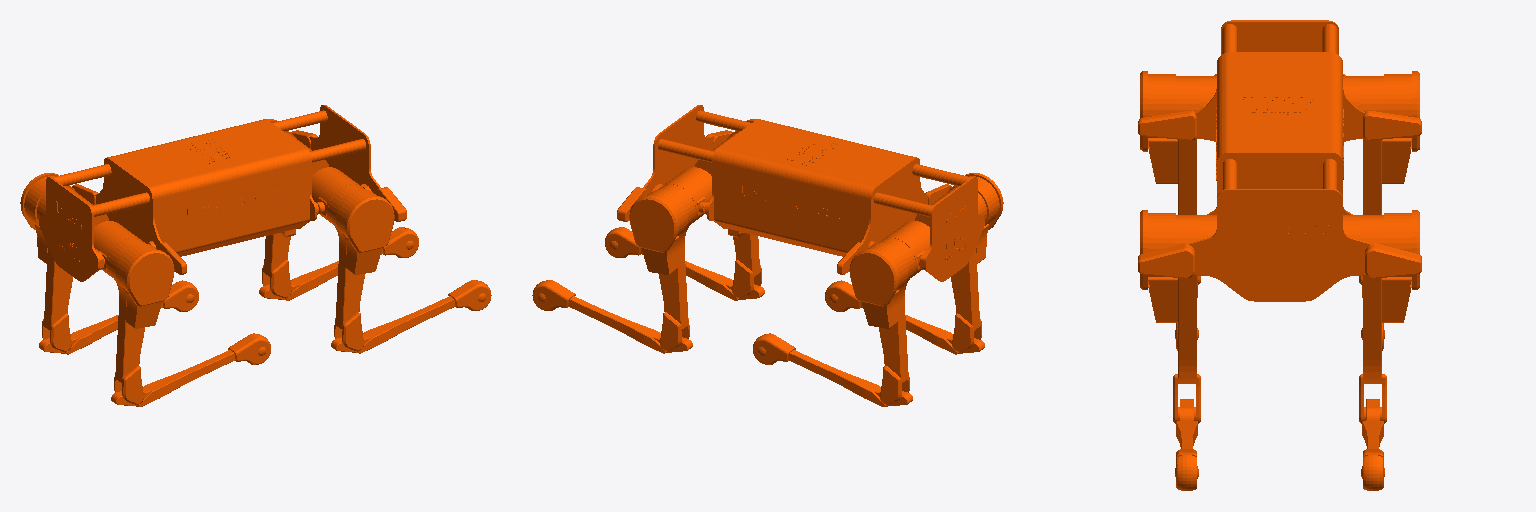
robot.urdf — laikago:
<?xml version="1.0" ?>
<!-- =================================================================================== -->
<!-- |    This document was autogenerated by xacro from robot.xacro                    | -->
<!-- |    EDITING THIS FILE BY HAND IS NOT RECOMMENDED                                 | -->
<!-- =================================================================================== -->
<robot name="laikago" xmlns:xacro="http://www.ros.org/wiki/xacro">
  <material name="black">
    <color rgba="0.0 0.0 0.0 1.0"/>
  </material>
  <material name="blue">
    <color rgba="0.0 0.0 0.8 1.0"/>
  </material>
  <material name="green">
    <color rgba="0.0 0.8 0.0 1.0"/>
  </material>
  <material name="grey">
    <color rgba="0.2 0.2 0.2 1.0"/>
  </material>
  <material name="silver">
    <color rgba="0.913725490196 0.913725490196 0.847058823529 1.0"/>
  </material>
  <material name="orange">
    <color rgba="1.0 0.423529411765 0.0392156862745 1.0"/>
  </material>
  <material name="brown">
    <color rgba="0.870588235294 0.811764705882 0.764705882353 1.0"/>
  </material>
  <material name="red">
    <color rgba="0.8 0.0 0.0 1.0"/>
  </material>
  <material name="white">
    <color rgba="1.0 1.0 1.0 1.0"/>
  </material>
  <!-- Base footpoint Link -->
   
  <!-- Base Link -->
  <link name="trunk">
    <visual>
      <origin rpy="0 0 0" xyz="0 0 0"/>
      <geometry>
        <mesh filename="meshes/trunk3.obj" scale="1 1 1"/>
      </geometry>
      <material name="orange"/>
    </visual>
    <collision>
      <origin rpy="0 0 0" xyz="0 0 0.01675"/>
      <geometry>
        <box size="0.5616 0.172 0.1875"/>
      </geometry>
    </collision>
    <inertial>
      <origin rpy="0 0 0" xyz="0.002284 -4.1e-05 0.025165"/>
      <mass value="13.733"/>
      <inertia ixx="0.073348887" ixy="0.00030338" ixz="0.001918218" iyy="0.250684593" iyz="-7.5402e-05" izz="0.254469458"/>
    </inertial>
  </link>
 
  <joint name="FL_hip_joint" type="revolute">
    <origin rpy="0 0 0" xyz="0.21935 0.0875 0"/>
    <parent link="trunk"/>
    <child link="FL_hip"/>
    <axis xyz="1 0 0"/>
    <dynamics damping="0" friction="0"/>
    <limit effort="20" lower="-0.872664625997" upper="1.0471975512" velocity="52.4"/>
  </joint>
  <link name="FL_hip">
    <visual>
      <origin rpy="0 0 0" xyz="0 0 0"/>
      <geometry>
        <mesh filename="meshes/hip.obj" scale="1 1 1"/>
      </geometry>
      <material name="orange"/>
    </visual>
    <collision>
      <origin rpy="1.57079632679 0 0" xyz="0 -0.021 0"/>
      <geometry>
        <cylinder length="0.08" radius="0.041"/>
      </geometry>
    </collision>
    <inertial>
      <origin rpy="0 0 0" xyz="-0.001568 -0.008134 0.000864"/>
      <mass value="1.096"/>
      <inertia ixx="0.000822113" ixy="-4.982e-06" ixz="-3.672e-05" iyy="0.000983196" iyz="2.811e-06" izz="0.000864753"/>
    </inertial>
  </link>
   
  <joint name="FL_thigh_joint" type="revolute">
    <origin rpy="0 0 0" xyz="0 0.037 0"/>
    <parent link="FL_hip"/>
    <child link="FL_thigh"/>
    <axis xyz="0 1 0"/>
    <dynamics damping="0" friction="0"/>
    <limit effort="55" lower="-0.523598775598" upper="3.92699081699" velocity="28.6"/>
  </joint>
  <link name="FL_thigh">
    <visual>
      <origin rpy="0 0 0" xyz="0 0 0"/>
      <geometry>
        <mesh filename="meshes/thigh.obj" scale="1 1 1"/>
      </geometry>
      <material name="orange"/>
    </visual>
    <collision>
      <origin rpy="0 1.57079632679 0" xyz="0 0 -0.125"/>
      <geometry>
        <box size="0.25 0.034 0.043"/>
      </geometry>
    </collision>
    <inertial>
      <origin rpy="0 0 0" xyz="-0.000482 0.02001 -0.031996"/>
      <mass value="1.528"/>
      <inertia ixx="0.00991611" ixy="1.0388e-05" ixz="0.000250428" iyy="0.009280083" iyz="-8.511e-05" izz="0.00178256"/>
    </inertial>
  </link>
  <joint name="FL_calf_joint" type="revolute">
    <origin rpy="0 0 0" xyz="0 0 -0.25"/>
    <parent link="FL_thigh"/>
    <child link="FL_calf"/>
    <axis xyz="0 1 0"/>
    <dynamics damping="0" friction="0"/>
    <limit effort="55" lower="-2.77507351067" upper="-0.610865238198" velocity="28.6"/>
  </joint>
  <link name="FL_calf">
    <visual>
      <origin rpy="0 0 0" xyz="0 0 0"/>
      <geometry>
        <mesh filename="meshes/calf6.obj" scale="1 1 1"/>
      </geometry>
      <material name="orange"/>
    </visual>
    <collision>
      <origin rpy="0 1.57079632679 0" xyz="0 0 -0.125"/>
      <geometry>
        <box size="0.25 0.016 0.016"/>
      </geometry>
    </collision>
    <inertial>
      <origin rpy="0 0 0" xyz="-0.002196 -0.000381 -0.12338"/>
      <mass value="0.241"/>
      <inertia ixx="0.006181961" ixy="2.37e-07" ixz="-2.985e-06" iyy="0.006196546" iyz="5.138e-06" izz="3.4774e-05"/>
    </inertial>
  </link>
  <joint name="FL_foot_fixed" type="fixed">
    <origin rpy="0 0 0" xyz="0 0 -0.25"/>
    <parent link="FL_calf"/>
    <child link="FL_foot"/>
    <axis xyz="0 0 1"/>
    <limit effort="100.0" lower="-0.001" upper="0.001" velocity="0.05"/>
  </joint>
  <link name="FL_foot">
    <visual>
      <origin rpy="0 0 0" xyz="0 0 0"/>
      <geometry>
        <sphere radius="0.0165"/>
      </geometry>
      <material name="orange"/>
    </visual>
    <collision name="FL_foot_collision">
      <origin rpy="0 0 0" xyz="0 0 0"/>
      <geometry>
        <sphere radius="0.0265"/>
      </geometry>
    </collision>
    <inertial>
      <mass value="0.06"/>
      <inertia ixx="1.6854e-05" ixy="0.0" ixz="0.0" iyy="1.6854e-05" iyz="0.0" izz="1.6854e-05"/>
    </inertial>
  </link>
  <transmission name="FL_hip_tran">
    <type>transmission_interface/SimpleTransmission</type>
    <joint name="FL_hip_joint">
      <hardwareInterface>hardware_interface/EffortJointInterface</hardwareInterface>
    </joint>
    <actuator name="FL_hip_motor">
      <hardwareInterface>hardware_interface/EffortJointInterface</hardwareInterface>
      <mechanicalReduction>1</mechanicalReduction>
    </actuator>
  </transmission>
  <transmission name="FL_thigh_tran">
    <type>transmission_interface/SimpleTransmission</type>
    <joint name="FL_thigh_joint">
      <hardwareInterface>hardware_interface/EffortJointInterface</hardwareInterface>
    </joint>
    <actuator name="FL_thigh_motor">
      <hardwareInterface>hardware_interface/EffortJointInterface</hardwareInterface>
      <mechanicalReduction>1</mechanicalReduction>
    </actuator>
  </transmission>
  <transmission name="FL_calf_tran">
    <type>transmission_interface/SimpleTransmission</type>
    <joint name="FL_calf_joint">
      <hardwareInterface>hardware_interface/EffortJointInterface</hardwareInterface>
    </joint>
    <actuator name="FL_calf_motor">
      <hardwareInterface>hardware_interface/EffortJointInterface</hardwareInterface>
      <mechanicalReduction>1</mechanicalReduction>
    </actuator>
  </transmission>
  <joint name="FR_hip_joint" type="revolute">
    <origin rpy="0 0 0" xyz="0.21935 -0.0875 0"/>
    <parent link="trunk"/>
    <child link="FR_hip"/>
    <axis xyz="1 0 0"/>
    <dynamics damping="0" friction="0"/>
    <limit effort="20" lower="-1.0471975512" upper="0.872664625997" velocity="52.4"/>
  </joint>
  <link name="FR_hip">
    <visual>
      <origin rpy="3.14159265359 0 0" xyz="0 0 0"/>
      <geometry>
        <mesh filename="meshes/hip.obj" scale="1 1 1"/>
      </geometry>
      <material name="orange"/>
    </visual>
    <collision>
      <origin rpy="1.57079632679 0 0" xyz="0 0.021 0"/>
      <geometry>
        <cylinder length="0.08" radius="0.041"/>
      </geometry>
    </collision>
    <inertial>
      <origin rpy="0 0 0" xyz="-0.001568 0.008134 0.000864"/>
      <mass value="1.096"/>
      <inertia ixx="0.000822113" ixy="4.982e-06" ixz="-3.672e-05" iyy="0.000983196" iyz="-2.811e-06" izz="0.000864753"/>
    </inertial>
  </link>
   
  <joint name="FR_thigh_joint" type="revolute">
    <origin rpy="0 0 0" xyz="0 -0.037 0"/>
    <parent link="FR_hip"/>
    <child link="FR_thigh"/>
    <axis xyz="0 1 0"/>
    <dynamics damping="0" friction="0"/>
    <limit effort="55" lower="-0.523598775598" upper="3.92699081699" velocity="28.6"/>
  </joint>
  <link name="FR_thigh">
    <visual>
      <origin rpy="0 0 0" xyz="0 0 0"/>
      <geometry>
        <mesh filename="meshes/thigh_mirror.obj" scale="1 1 1"/>
      </geometry>
      <material name="orange"/>
    </visual>
    <collision>
      <origin rpy="0 1.57079632679 0" xyz="0 0 -0.125"/>
      <geometry>
        <box size="0.25 0.034 0.043"/>
      </geometry>
    </collision>
    <inertial>
      <origin rpy="0 0 0" xyz="-0.000482 -0.02001 -0.031996"/>
      <mass value="1.528"/>
      <inertia ixx="0.00991611" ixy="-1.0388e-05" ixz="0.000250428" iyy="0.009280083" iyz="8.511e-05" izz="0.00178256"/>
    </inertial>
  </link>
  <joint name="FR_calf_joint" type="revolute">
    <origin rpy="0 0 0" xyz="0 0 -0.25"/>
    <parent link="FR_thigh"/>
    <child link="FR_calf"/>
    <axis xyz="0 1 0"/>
    <dynamics damping="0" friction="0"/>
    <limit effort="55" lower="-2.77507351067" upper="-0.610865238198" velocity="28.6"/>
  </joint>
  <link name="FR_calf">
    <visual>
      <origin rpy="0 0 0" xyz="0 0 0"/>
      <geometry>
        <mesh filename="meshes/calf6.obj" scale="1 1 1"/>
      </geometry>
      <material name="orange"/>
    </visual>
    <collision>
      <origin rpy="0 1.57079632679 0" xyz="0 0 -0.125"/>
      <geometry>
        <box size="0.25 0.016 0.016"/>
      </geometry>
    </collision>
    <inertial>
      <origin rpy="0 0 0" xyz="-0.002196 -0.000381 -0.12338"/>
      <mass value="0.241"/>
      <inertia ixx="0.006181961" ixy="2.37e-07" ixz="-2.985e-06" iyy="0.006196546" iyz="5.138e-06" izz="3.4774e-05"/>
    </inertial>
  </link>
  <joint name="FR_foot_fixed" type="fixed">
    <origin rpy="0 0 0" xyz="0 0 -0.25"/>
    <parent link="FR_calf"/>
    <child link="FR_foot"/>
    <axis xyz="0 0 1"/>
    <limit effort="100.0" lower="-0.001" upper="0.001" velocity="0.05"/>
  </joint>
  <link name="FR_foot">
    <visual>
      <origin rpy="0 0 0" xyz="0 0 0"/>
      <geometry>
        <sphere radius="0.0165"/>
      </geometry>
      <material name="orange"/>
    </visual>
    <collision name="FR_foot_collision">
      <origin rpy="0 0 0" xyz="0 0 0"/>
      <geometry>
        <sphere radius="0.0265"/>
      </geometry>
    </collision>
    <inertial>
      <mass value="0.06"/>
      <inertia ixx="1.6854e-05" ixy="0.0" ixz="0.0" iyy="1.6854e-05" iyz="0.0" izz="1.6854e-05"/>
    </inertial>
  </link>
  <transmission name="FR_hip_tran">
    <type>transmission_interface/SimpleTransmission</type>
    <joint name="FR_hip_joint">
      <hardwareInterface>hardware_interface/EffortJointInterface</hardwareInterface>
    </joint>
    <actuator name="FR_hip_motor">
      <hardwareInterface>hardware_interface/EffortJointInterface</hardwareInterface>
      <mechanicalReduction>1</mechanicalReduction>
    </actuator>
  </transmission>
  <transmission name="FR_thigh_tran">
    <type>transmission_interface/SimpleTransmission</type>
    <joint name="FR_thigh_joint">
      <hardwareInterface>hardware_interface/EffortJointInterface</hardwareInterface>
    </joint>
    <actuator name="FR_thigh_motor">
      <hardwareInterface>hardware_interface/EffortJointInterface</hardwareInterface>
      <mechanicalReduction>1</mechanicalReduction>
    </actuator>
  </transmission>
  <transmission name="FR_calf_tran">
    <type>transmission_interface/SimpleTransmission</type>
    <joint name="FR_calf_joint">
      <hardwareInterface>hardware_interface/EffortJointInterface</hardwareInterface>
    </joint>
    <actuator name="FR_calf_motor">
      <hardwareInterface>hardware_interface/EffortJointInterface</hardwareInterface>
      <mechanicalReduction>1</mechanicalReduction>
    </actuator>
  </transmission>
  <joint name="RR_hip_joint" type="revolute">
    <origin rpy="0 0 0" xyz="-0.21935 -0.0875 0"/>
    <parent link="trunk"/>
    <child link="RR_hip"/>
    <axis xyz="1 0 0"/>
    <dynamics damping="0" friction="0"/>
    <limit effort="20" lower="-1.0471975512" upper="0.872664625997" velocity="52.4"/>
  </joint>
  <link name="RR_hip">
    <visual>
      <origin rpy="3.14159265359 3.14159265359 0" xyz="0 0 0"/>
      <geometry>
        <mesh filename="meshes/hip.obj" scale="1 1 1"/>
      </geometry>
      <material name="orange"/>
    </visual>
    <collision>
      <origin rpy="1.57079632679 0 0" xyz="0 0.021 0"/>
      <geometry>
        <cylinder length="0.08" radius="0.041"/>
      </geometry>
    </collision>
    <inertial>
      <origin rpy="0 0 0" xyz="0.001568 0.008134 0.000864"/>
      <mass value="1.096"/>
      <inertia ixx="0.000822113" ixy="-4.982e-06" ixz="3.672e-05" iyy="0.000983196" iyz="-2.811e-06" izz="0.000864753"/>
    </inertial>
  </link>
   
  <joint name="RR_thigh_joint" type="revolute">
    <origin rpy="0 0 0" xyz="0 -0.037 0"/>
    <parent link="RR_hip"/>
    <child link="RR_thigh"/>
    <axis xyz="0 1 0"/>
    <dynamics damping="0" friction="0"/>
    <limit effort="55" lower="-0.523598775598" upper="3.92699081699" velocity="28.6"/>
  </joint>
  <link name="RR_thigh">
    <visual>
      <origin rpy="0 0 0" xyz="0 0 0"/>
      <geometry>
        <mesh filename="meshes/thigh_mirror.obj" scale="1 1 1"/>
      </geometry>
      <material name="orange"/>
    </visual>
    <collision>
      <origin rpy="0 1.57079632679 0" xyz="0 0 -0.125"/>
      <geometry>
        <box size="0.25 0.034 0.043"/>
      </geometry>
    </collision>
    <inertial>
      <origin rpy="0 0 0" xyz="-0.000482 -0.02001 -0.031996"/>
      <mass value="1.528"/>
      <inertia ixx="0.00991611" ixy="-1.0388e-05" ixz="0.000250428" iyy="0.009280083" iyz="8.511e-05" izz="0.00178256"/>
    </inertial>
  </link>
  <joint name="RR_calf_joint" type="revolute">
    <origin rpy="0 0 0" xyz="0 0 -0.25"/>
    <parent link="RR_thigh"/>
    <child link="RR_calf"/>
    <axis xyz="0 1 0"/>
    <dynamics damping="0" friction="0"/>
    <limit effort="55" lower="-2.77507351067" upper="-0.610865238198" velocity="28.6"/>
  </joint>
  <link name="RR_calf">
    <visual>
      <origin rpy="0 0 0" xyz="0 0 0"/>
      <geometry>
        <mesh filename="meshes/calf6.obj" scale="1 1 1"/>
      </geometry>
      <material name="orange"/>
    </visual>
    <collision>
      <origin rpy="0 1.57079632679 0" xyz="0 0 -0.125"/>
      <geometry>
        <box size="0.25 0.016 0.016"/>
      </geometry>
    </collision>
    <inertial>
      <origin rpy="0 0 0" xyz="-0.002196 -0.000381 -0.12338"/>
      <mass value="0.241"/>
      <inertia ixx="0.006181961" ixy="2.37e-07" ixz="-2.985e-06" iyy="0.006196546" iyz="5.138e-06" izz="3.4774e-05"/>
    </inertial>
  </link>
  <joint name="RR_foot_fixed" type="fixed">
    <origin rpy="0 0 0" xyz="0 0 -0.25"/>
    <parent link="RR_calf"/>
    <child link="RR_foot"/>
    <axis xyz="0 0 1"/>
    <limit effort="100.0" lower="-0.001" upper="0.001" velocity="0.05"/>
  </joint>
  <link name="RR_foot">
    <visual>
      <origin rpy="0 0 0" xyz="0 0 0"/>
      <geometry>
        <sphere radius="0.0165"/>
      </geometry>
      <material name="orange"/>
    </visual>
    <collision name="RR_foot_collision">
      <origin rpy="0 0 0" xyz="0 0 0"/>
      <geometry>
        <sphere radius="0.0265"/>
      </geometry>
    </collision>
    <inertial>
      <mass value="0.06"/>
      <inertia ixx="1.6854e-05" ixy="0.0" ixz="0.0" iyy="1.6854e-05" iyz="0.0" izz="1.6854e-05"/>
    </inertial>
  </link>
  <transmission name="RR_hip_tran">
    <type>transmission_interface/SimpleTransmission</type>
    <joint name="RR_hip_joint">
      <hardwareInterface>hardware_interface/EffortJointInterface</hardwareInterface>
    </joint>
    <actuator name="RR_hip_motor">
      <hardwareInterface>hardware_interface/EffortJointInterface</hardwareInterface>
      <mechanicalReduction>1</mechanicalReduction>
    </actuator>
  </transmission>
  <transmission name="RR_thigh_tran">
    <type>transmission_interface/SimpleTransmission</type>
    <joint name="RR_thigh_joint">
      <hardwareInterface>hardware_interface/EffortJointInterface</hardwareInterface>
    </joint>
    <actuator name="RR_thigh_motor">
      <hardwareInterface>hardware_interface/EffortJointInterface</hardwareInterface>
      <mechanicalReduction>1</mechanicalReduction>
    </actuator>
  </transmission>
  <transmission name="RR_calf_tran">
    <type>transmission_interface/SimpleTransmission</type>
    <joint name="RR_calf_joint">
      <hardwareInterface>hardware_interface/EffortJointInterface</hardwareInterface>
    </joint>
    <actuator name="RR_calf_motor">
      <hardwareInterface>hardware_interface/EffortJointInterface</hardwareInterface>
      <mechanicalReduction>1</mechanicalReduction>
    </actuator>
  </transmission>
  <joint name="RL_hip_joint" type="revolute">
    <origin rpy="0 0 0" xyz="-0.21935 0.0875 0"/>
    <parent link="trunk"/>
    <child link="RL_hip"/>
    <axis xyz="1 0 0"/>
    <dynamics damping="0" friction="0"/>
    <limit effort="20" lower="-0.872664625997" upper="1.0471975512" velocity="52.4"/>
  </joint>
  <link name="RL_hip">
    <visual>
      <origin rpy="0 3.14159265359 0" xyz="0 0 0"/>
      <geometry>
        <mesh filename="meshes/hip.obj" scale="1 1 1"/>
      </geometry>
      <material name="orange"/>
    </visual>
    <collision>
      <origin rpy="1.57079632679 0 0" xyz="0 -0.021 0"/>
      <geometry>
        <cylinder length="0.08" radius="0.041"/>
      </geometry>
    </collision>
    <inertial>
      <origin rpy="0 0 0" xyz="0.001568 -0.008134 0.000864"/>
      <mass value="1.096"/>
      <inertia ixx="0.000822113" ixy="4.982e-06" ixz="3.672e-05" iyy="0.000983196" iyz="2.811e-06" izz="0.000864753"/>
    </inertial>
  </link>
   
  <joint name="RL_thigh_joint" type="revolute">
    <origin rpy="0 0 0" xyz="0 0.037 0"/>
    <parent link="RL_hip"/>
    <child link="RL_thigh"/>
    <axis xyz="0 1 0"/>
    <dynamics damping="0" friction="0"/>
    <limit effort="55" lower="-0.523598775598" upper="3.92699081699" velocity="28.6"/>
  </joint>
  <link name="RL_thigh">
    <visual>
      <origin rpy="0 0 0" xyz="0 0 0"/>
      <geometry>
        <mesh filename="meshes/thigh.obj" scale="1 1 1"/>
      </geometry>
      <material name="orange"/>
    </visual>
    <collision>
      <origin rpy="0 1.57079632679 0" xyz="0 0 -0.125"/>
      <geometry>
        <box size="0.25 0.034 0.043"/>
      </geometry>
    </collision>
    <inertial>
      <origin rpy="0 0 0" xyz="-0.000482 0.02001 -0.031996"/>
      <mass value="1.528"/>
      <inertia ixx="0.00991611" ixy="1.0388e-05" ixz="0.000250428" iyy="0.009280083" iyz="-8.511e-05" izz="0.00178256"/>
    </inertial>
  </link>
  <joint name="RL_calf_joint" type="revolute">
    <origin rpy="0 0 0" xyz="0 0 -0.25"/>
    <parent link="RL_thigh"/>
    <child link="RL_calf"/>
    <axis xyz="0 1 0"/>
    <dynamics damping="0" friction="0"/>
    <limit effort="55" lower="-2.77507351067" upper="-0.610865238198" velocity="28.6"/>
  </joint>
  <link name="RL_calf">
    <visual>
      <origin rpy="0 0 0" xyz="0 0 0"/>
      <geometry>
        <mesh filename="meshes/calf6.obj" scale="1 1 1"/>
      </geometry>
      <material name="orange"/>
    </visual>
    <collision>
      <origin rpy="0 1.57079632679 0" xyz="0 0 -0.125"/>
      <geometry>
        <box size="0.25 0.016 0.016"/>
      </geometry>
    </collision>
    <inertial>
      <origin rpy="0 0 0" xyz="-0.002196 -0.000381 -0.12338"/>
      <mass value="0.241"/>
      <inertia ixx="0.006181961" ixy="2.37e-07" ixz="-2.985e-06" iyy="0.006196546" iyz="5.138e-06" izz="3.4774e-05"/>
    </inertial>
  </link>
  <joint name="RL_foot_fixed" type="fixed">
    <origin rpy="0 0 0" xyz="0 0 -0.25"/>
    <parent link="RL_calf"/>
    <child link="RL_foot"/>
    <axis xyz="0 0 1"/>
    <limit effort="100.0" lower="-0.001" upper="0.001" velocity="0.05"/>
  </joint>
  <link name="RL_foot">
    <visual>
      <origin rpy="0 0 0" xyz="0 0 0"/>
      <geometry>
        <sphere radius="0.0165"/>
      </geometry>
      <material name="orange"/>
    </visual>
    <collision name="RL_foot_collision">
      <origin rpy="0 0 0" xyz="0 0 0"/>
      <geometry>
        <sphere radius="0.0265"/>
      </geometry>
    </collision>
    <inertial>
      <mass value="0.06"/>
      <inertia ixx="1.6854e-05" ixy="0.0" ixz="0.0" iyy="1.6854e-05" iyz="0.0" izz="1.6854e-05"/>
    </inertial>
  </link>
  <transmission name="RL_hip_tran">
    <type>transmission_interface/SimpleTransmission</type>
    <joint name="RL_hip_joint">
      <hardwareInterface>hardware_interface/EffortJointInterface</hardwareInterface>
    </joint>
    <actuator name="RL_hip_motor">
      <hardwareInterface>hardware_interface/EffortJointInterface</hardwareInterface>
      <mechanicalReduction>1</mechanicalReduction>
    </actuator>
  </transmission>
  <transmission name="RL_thigh_tran">
    <type>transmission_interface/SimpleTransmission</type>
    <joint name="RL_thigh_joint">
      <hardwareInterface>hardware_interface/EffortJointInterface</hardwareInterface>
    </joint>
    <actuator name="RL_thigh_motor">
      <hardwareInterface>hardware_interface/EffortJointInterface</hardwareInterface>
      <mechanicalReduction>1</mechanicalReduction>
    </actuator>
  </transmission>
  <transmission name="RL_calf_tran">
    <type>transmission_interface/SimpleTransmission</type>
    <joint name="RL_calf_joint">
      <hardwareInterface>hardware_interface/EffortJointInterface</hardwareInterface>
    </joint>
    <actuator name="RL_calf_motor">
      <hardwareInterface>hardware_interface/EffortJointInterface</hardwareInterface>
      <mechanicalReduction>1</mechanicalReduction>
    </actuator>
  </transmission>
</robot>

--- Facts derived from the render (not from the file) ---
The picture shows the robot from 3 angles, left to right: view 1: azimuth 30°, elevation 25°; view 2: azimuth 150°, elevation 25°; view 3: azimuth 270°, elevation 25°; orthographic projection.
Model laikago with 17 links and 16 joints (12 revolute, 4 fixed), rooted at trunk, posed all joints at 0 but 4 set to mid-range because 0 is outside their limits (FL_calf_joint = -1.69, FR_calf_joint = -1.69, RR_calf_joint = -1.69, RL_calf_joint = -1.69).
Visible links, largest first — view 1: trunk, FR_thigh, RR_thigh, RL_thigh, FR_calf, RR_calf, FL_calf, RL_calf, FL_thigh, FR_hip, RR_hip; view 2: trunk, FL_thigh, RL_thigh, RR_thigh, FL_calf, RL_calf, FR_calf, RR_calf, FR_thigh, FL_hip, RL_hip; view 3: trunk, FL_thigh, FR_thigh, RR_thigh, RL_thigh, FL_calf, FR_calf.
Boxes of the visible links, x1,y1,x2,y2 form: trunk: (39, 105, 406, 281); FR_thigh: (328, 184, 394, 350); RR_thigh: (108, 238, 174, 404); RL_thigh: (20, 173, 77, 351); FR_calf: (331, 280, 491, 353); RR_calf: (111, 333, 270, 406); FL_calf: (259, 227, 418, 300); RL_calf: (39, 280, 198, 354); FL_thigh: (262, 119, 298, 297); FR_hip: (312, 167, 358, 222); RR_hip: (94, 221, 140, 277); trunk: (617, 105, 984, 281); FL_thigh: (629, 184, 695, 350); RL_thigh: (849, 238, 915, 404); RR_thigh: (946, 173, 1003, 351); FL_calf: (532, 280, 692, 353); RL_calf: (753, 333, 912, 406); FR_calf: (605, 227, 764, 300); RR_calf: (825, 280, 984, 354); FR_thigh: (725, 119, 761, 297); FL_hip: (665, 167, 711, 222); RL_hip: (883, 221, 929, 277); trunk: (1138, 20, 1421, 301); FL_thigh: (1359, 210, 1419, 423); FR_thigh: (1140, 210, 1200, 423); RR_thigh: (1140, 71, 1200, 284); RL_thigh: (1359, 71, 1419, 284); FL_calf: (1362, 399, 1383, 490); FR_calf: (1176, 399, 1197, 490).
Size in the robot's own frame: 0.7666 by 0.3799 by 0.3786 metres.
Meshes: 5 distinct files referenced, 13 mesh visuals loaded (5 OBJ).